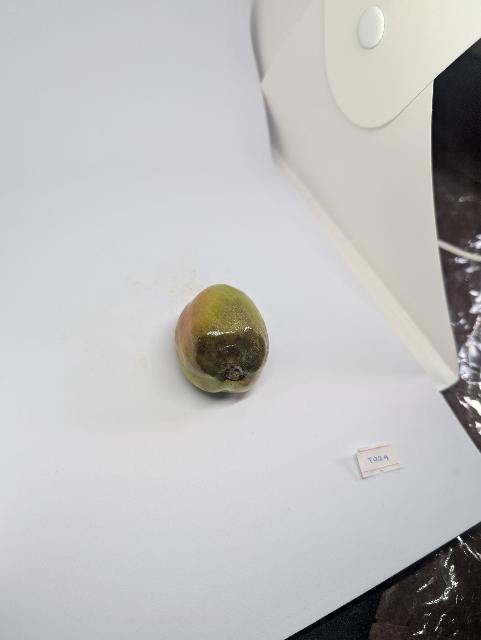defect: (173, 280, 271, 399)
